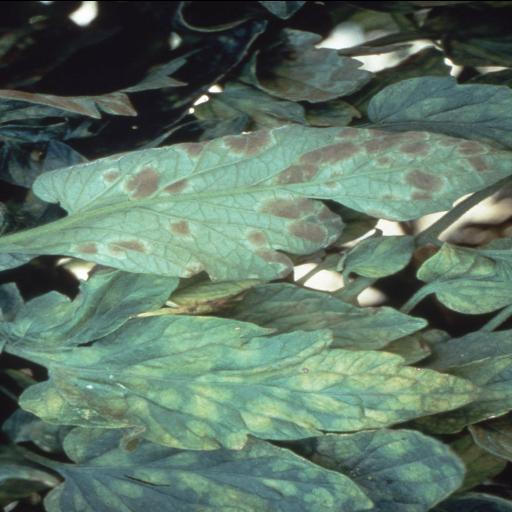disease_tomato: (31, 122, 512, 280), (20, 314, 486, 450), (42, 444, 374, 512)
